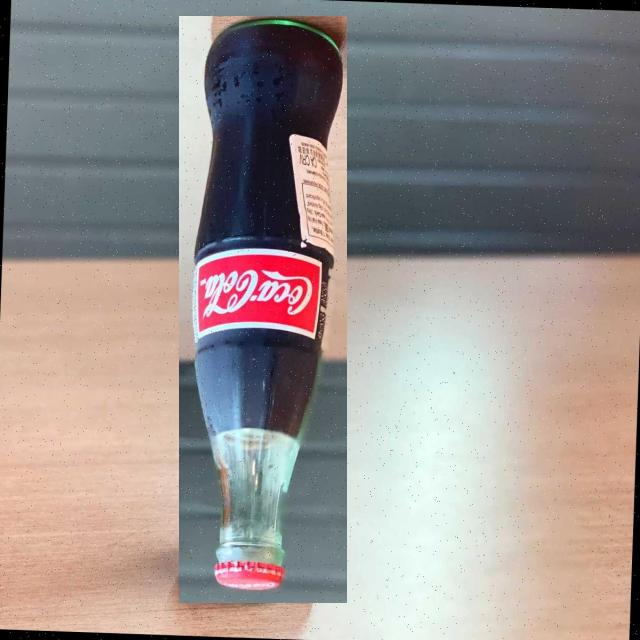coca-cola: (179, 16, 347, 603)
